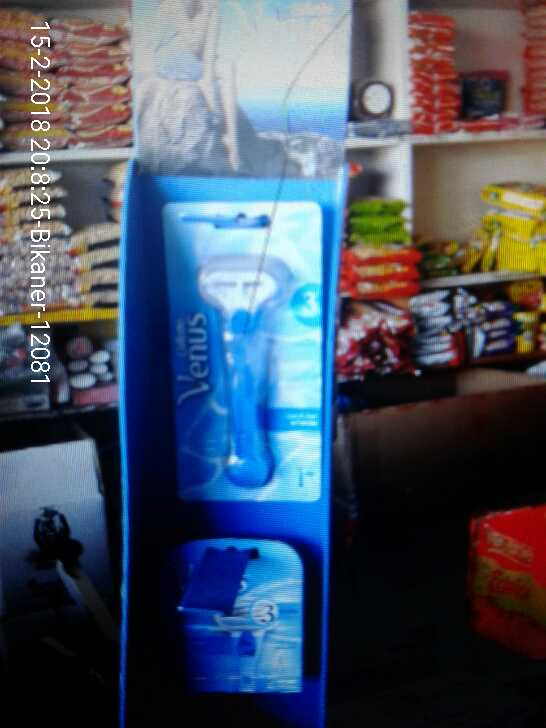venus: (169, 195, 324, 511), (160, 546, 310, 702)
